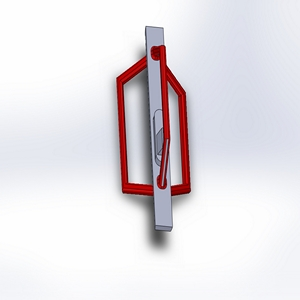submarine: (96, 14, 220, 248)
